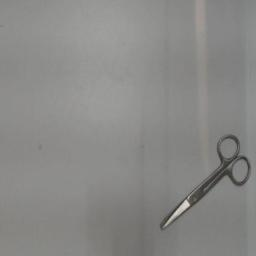Dressing Scissors: (154, 131, 254, 235)
